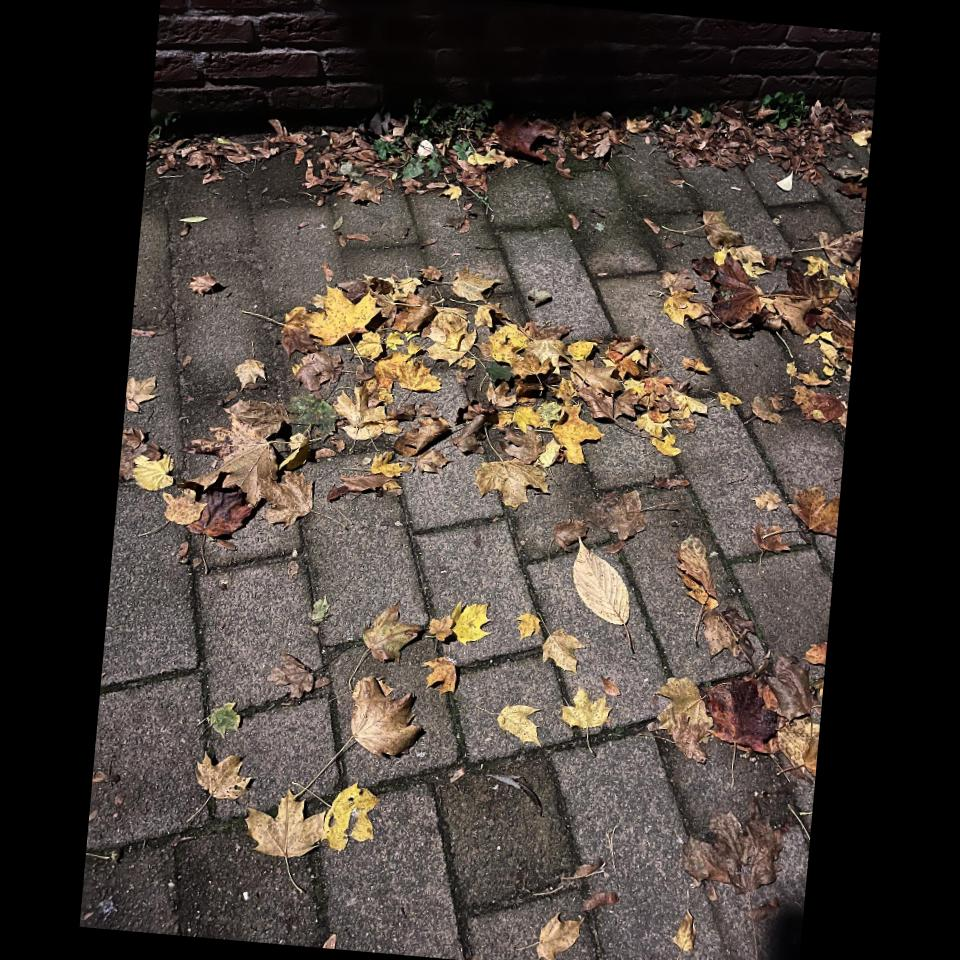weed: (395, 81, 471, 136), (763, 66, 820, 137), (659, 78, 738, 128), (392, 146, 458, 197), (290, 388, 341, 441), (450, 100, 481, 160), (378, 140, 397, 165)
